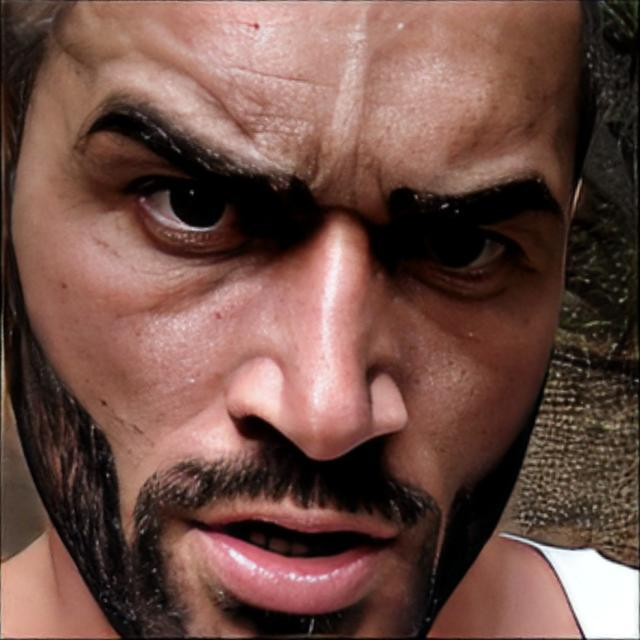anger: (51, 0, 564, 640)
